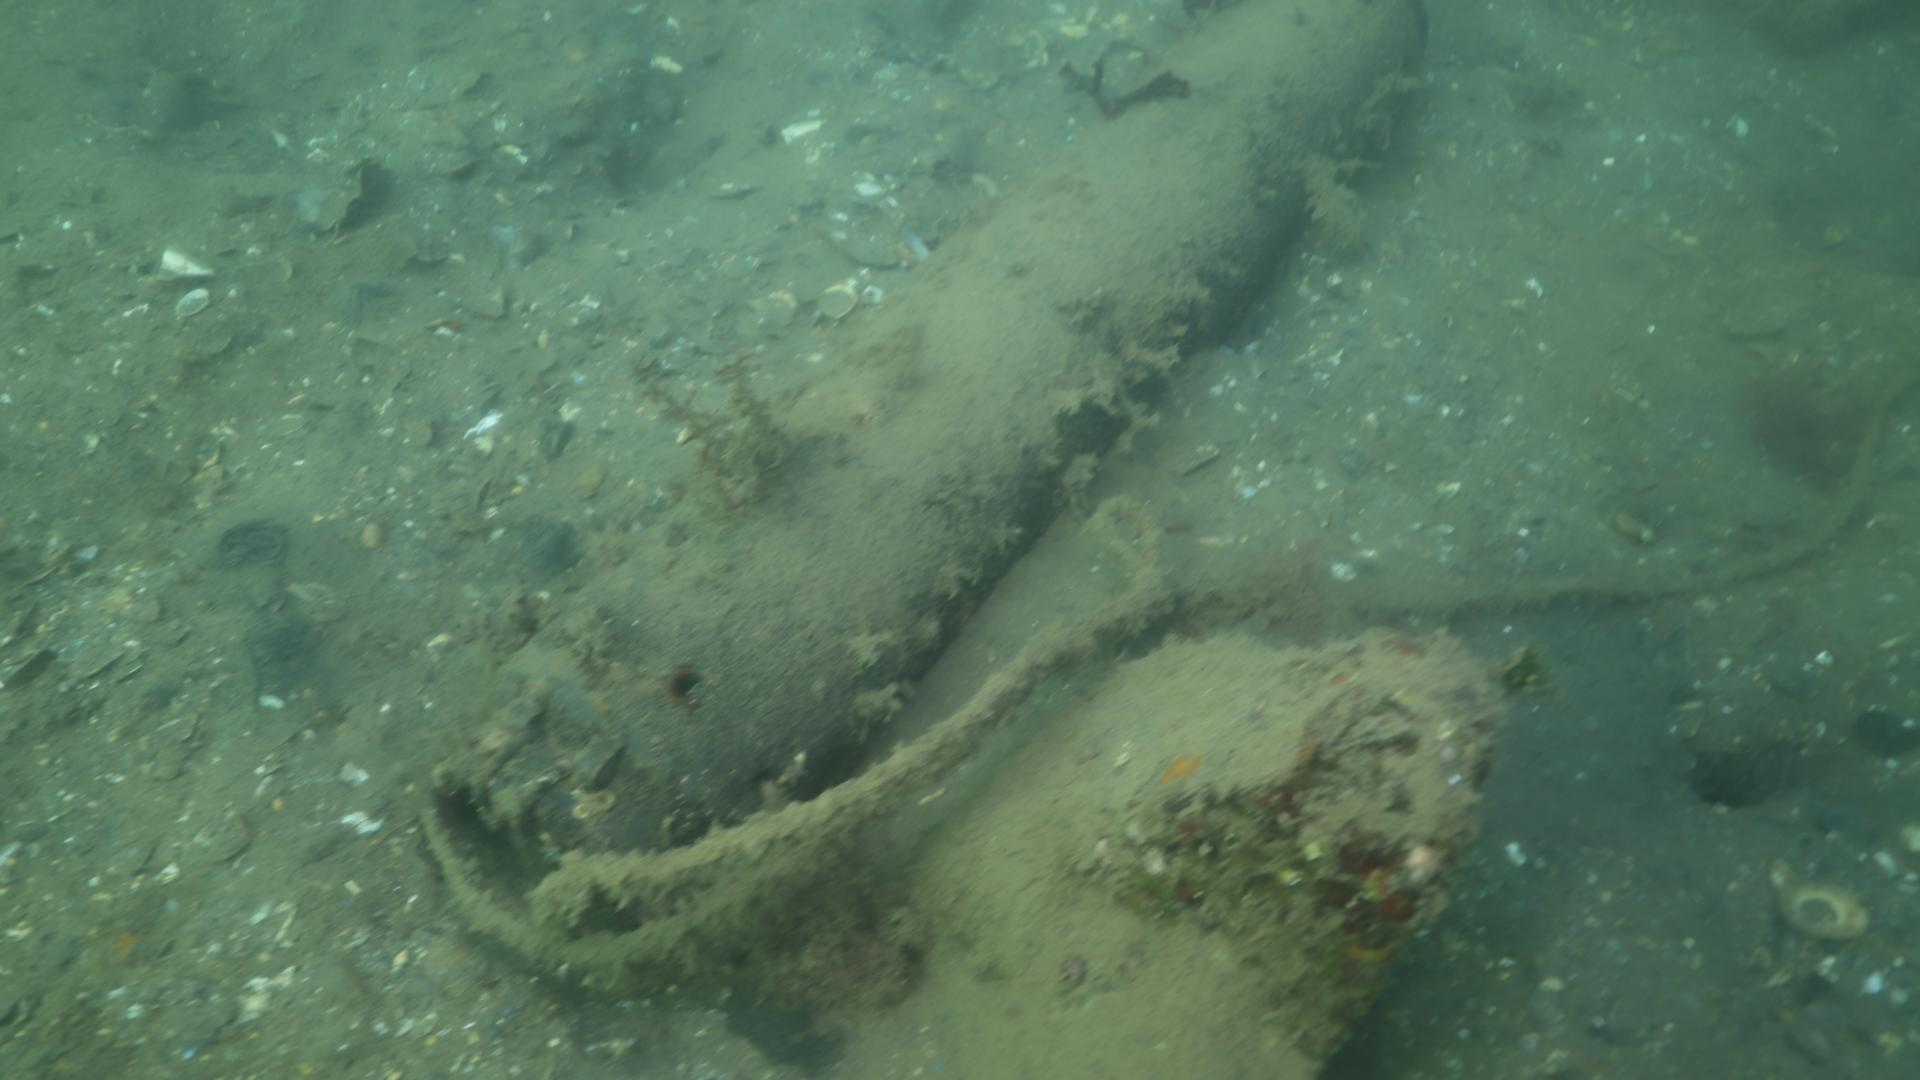bundle of ropes: (419, 381, 1920, 988)
eel fish trap: (465, 0, 1410, 852)
